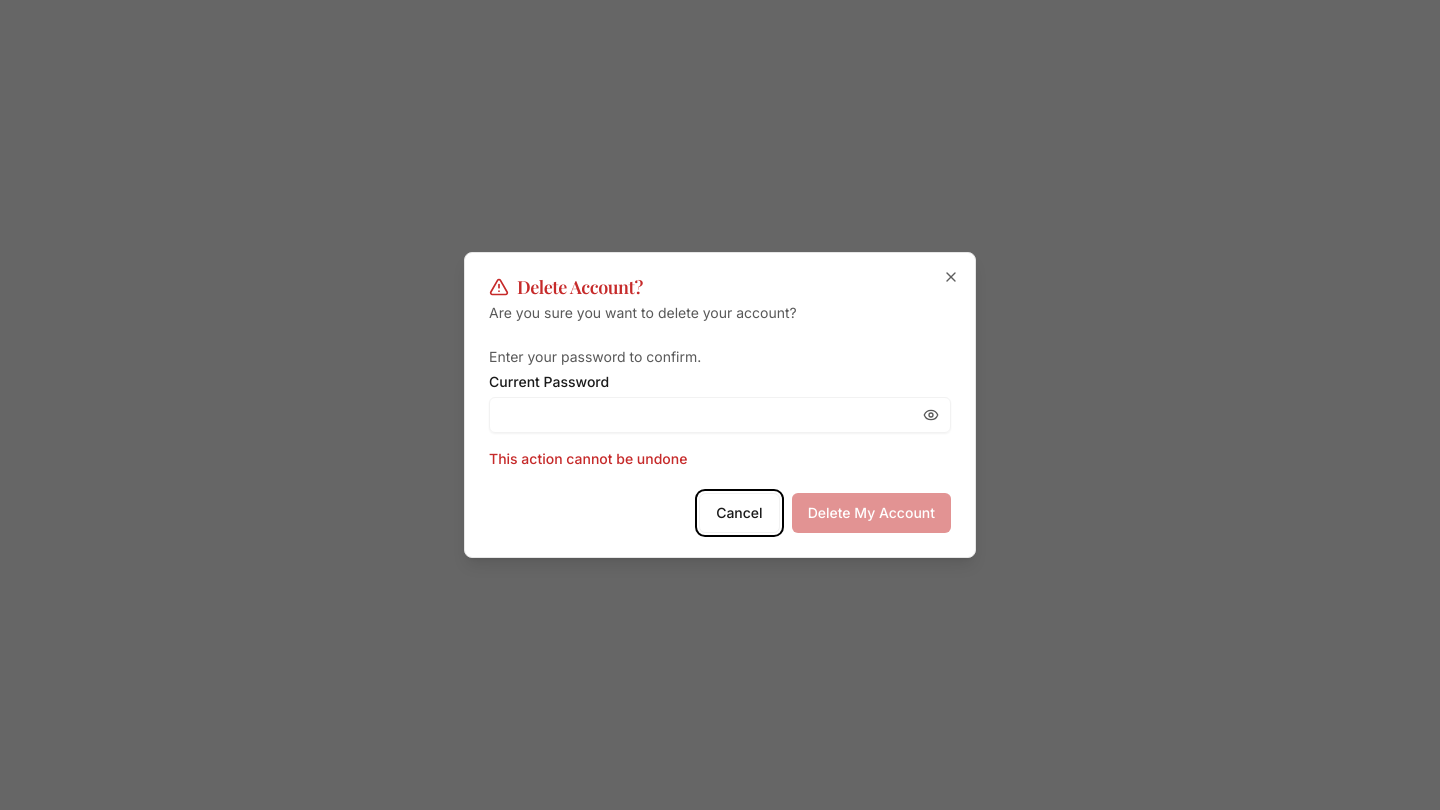
DeleteAccountDialog › shows an inline error and keeps the user when deletion fails
This screenshot has width=1440, height=810.
Type "my-password" into the password field labelled "Current Password" at (720, 415), box x1=489 y1=397 x2=951 y2=433
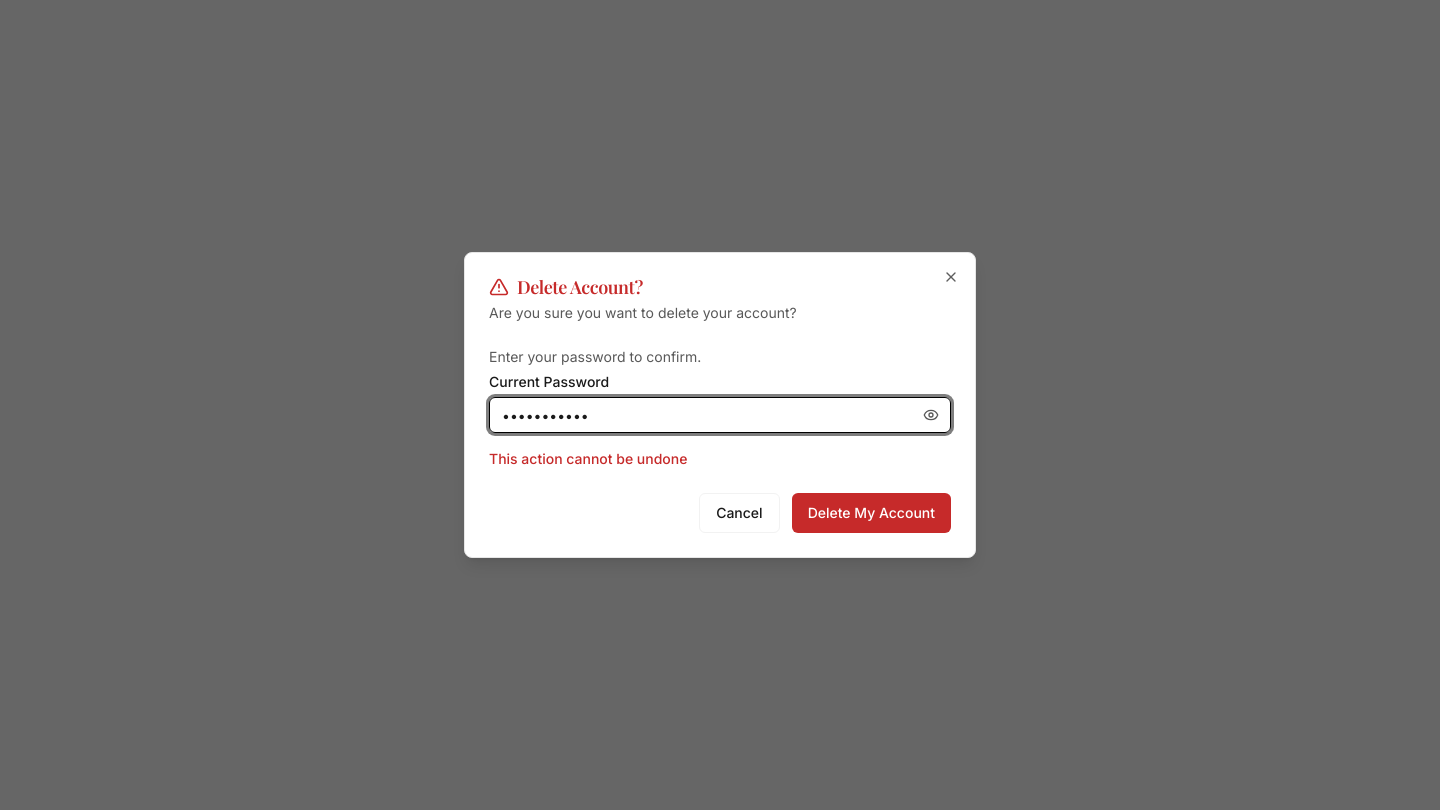
Result: the button "Delete My Account" is enabled
Click the button "Delete My Account" at (871, 513), box x1=792 y1=493 x2=951 y2=533
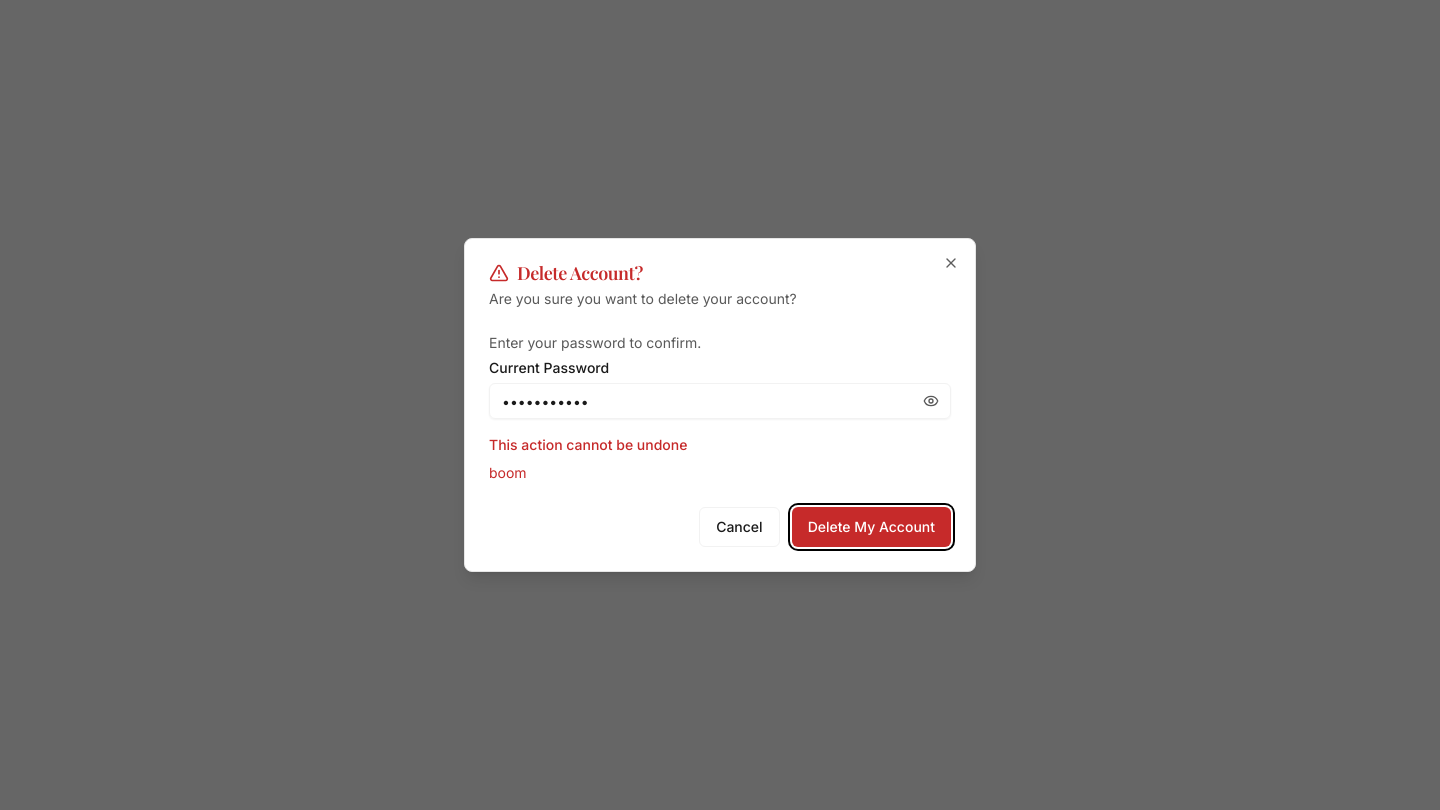
Result: the message "boom" is shown at x1=489 y1=464 x2=527 y2=481
